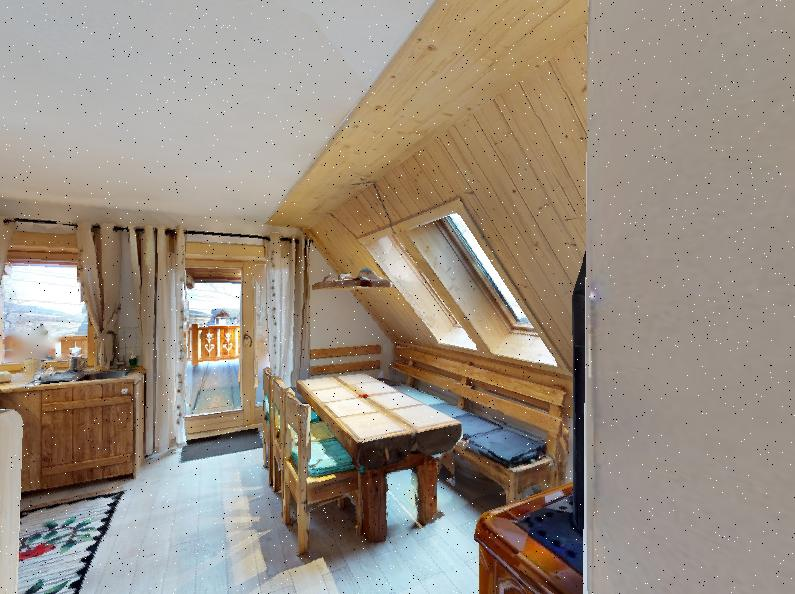chair: (459, 362, 579, 515), (266, 382, 361, 563)
table: (296, 361, 467, 534)
